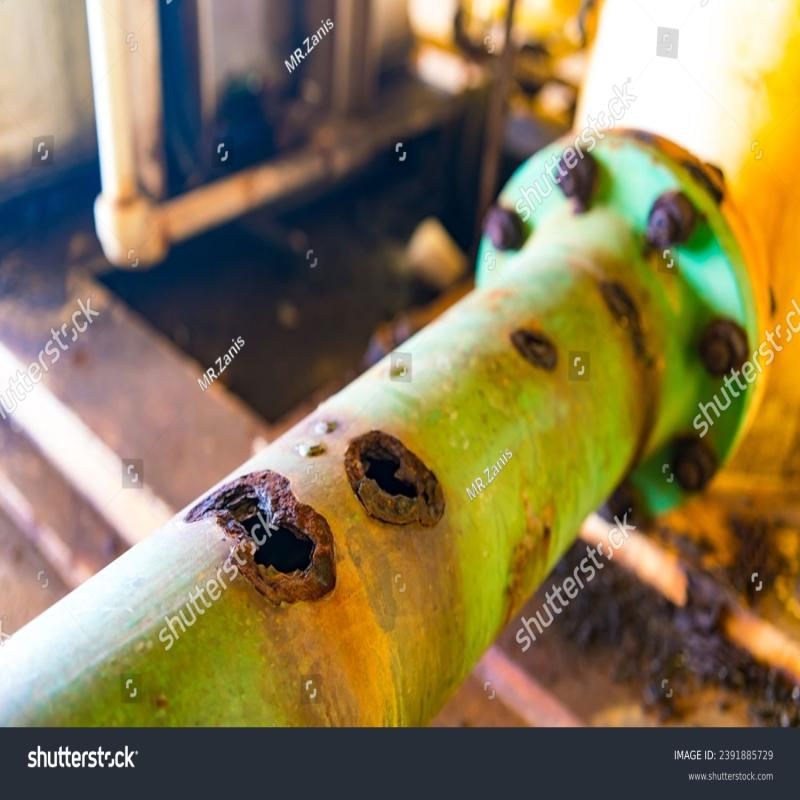Fracture: (324, 398, 477, 573), (188, 453, 333, 620), (507, 316, 569, 382)
